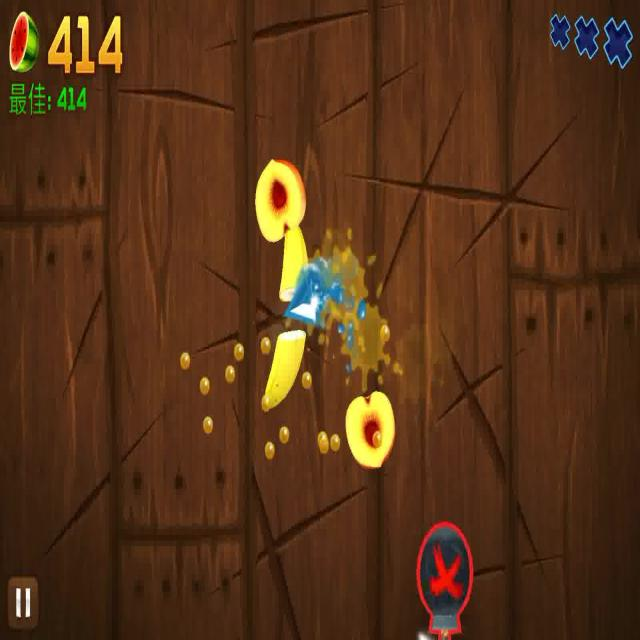bomb: (415, 517, 476, 640)
fruit: (253, 156, 311, 241), (344, 386, 396, 470), (263, 328, 306, 404), (282, 217, 310, 309)
